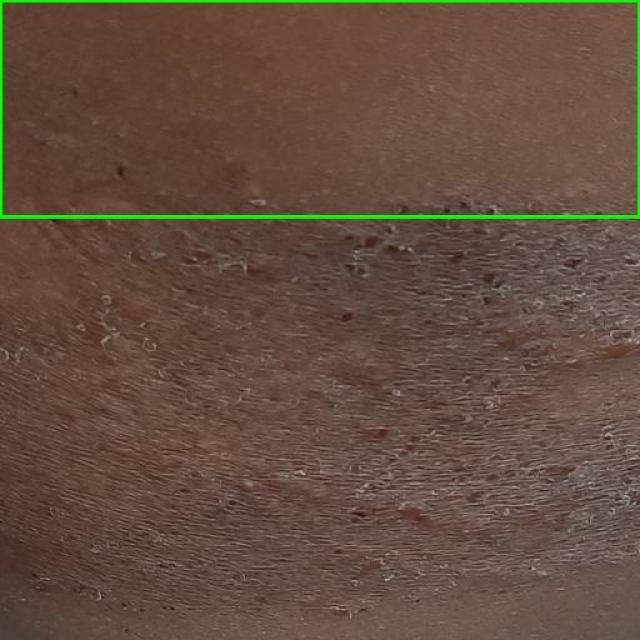Tinea Corporis: (0, 0, 639, 216)
